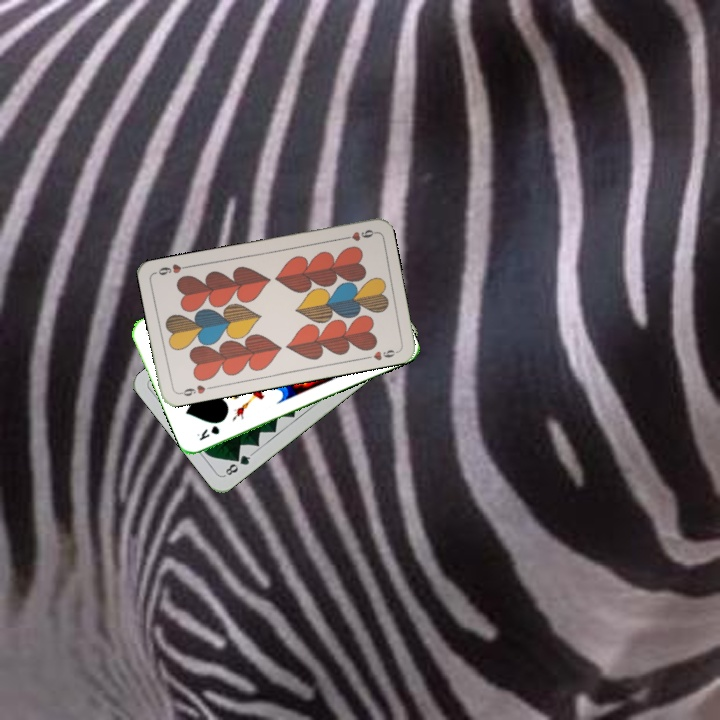G8: (220, 449, 255, 479)
GK: (193, 421, 222, 443)
H9: (337, 225, 377, 244), (175, 381, 215, 399)
